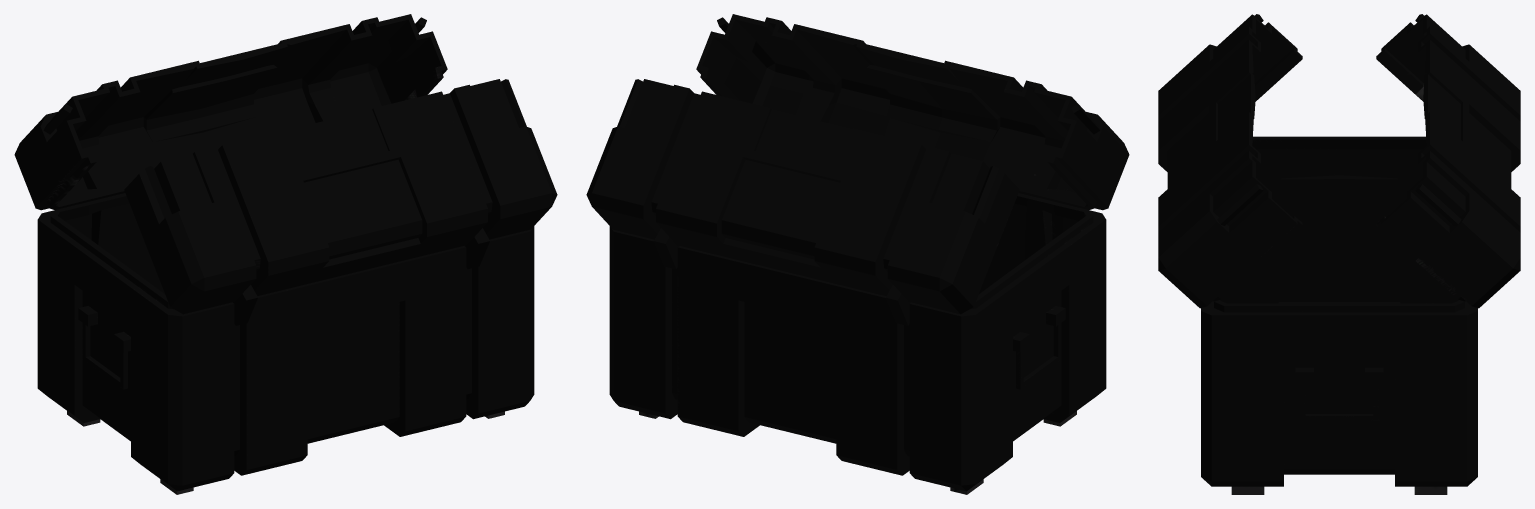
Rendered from Toolbox_open Kopie.fbx.
3 views of the same model, side by side, from view 1: azimuth 30°, elevation 25°; view 2: azimuth 150°, elevation 25°; view 3: azimuth 270°, elevation 25° (orthographic).
Visible parts, largest first — view 1: node_id4; view 2: node_id4; view 3: node_id4.
Boxes of the visible parts, x1,y1,x2,y2 form: node_id4: (14, 14, 557, 494); node_id4: (586, 14, 1129, 494); node_id4: (1158, 14, 1520, 494).
Size of the model in its own units: 0.512 by 0.4366 by 0.442.
Materials: 1 (1 with a texture image).
